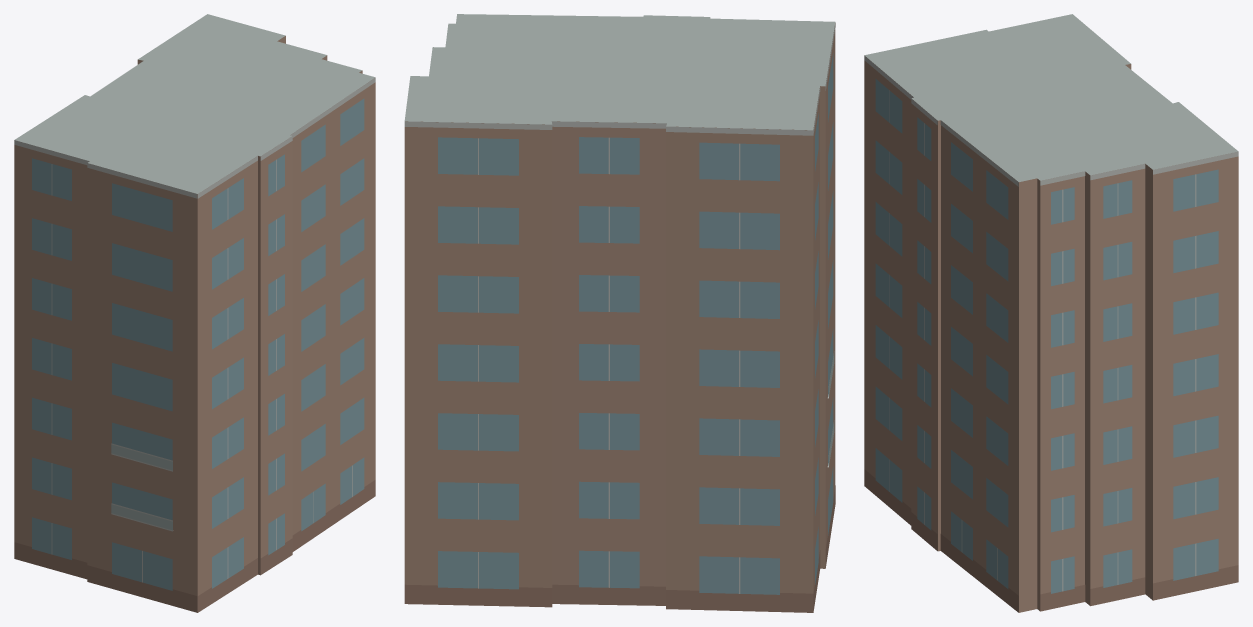
File: survey-upis-32749580.glb
3 views of the same model, side by side, from view 1: azimuth 30°, elevation 25°; view 2: azimuth 150°, elevation 25°; view 3: azimuth 270°, elevation 25° (orthographic). The views are drawn at different scales.
Parts seen in each view (by area): view 1: survey-upis-32749580.tmp; view 2: survey-upis-32749580.tmp; view 3: survey-upis-32749580.tmp.
Boxes of the visible parts, bbox=[...] form: survey-upis-32749580.tmp: bbox=[14, 14, 375, 612]; survey-upis-32749580.tmp: bbox=[404, 14, 835, 612]; survey-upis-32749580.tmp: bbox=[864, 14, 1238, 612].
Size of the model in its own units: 18.02 by 21.5 by 16.95.
